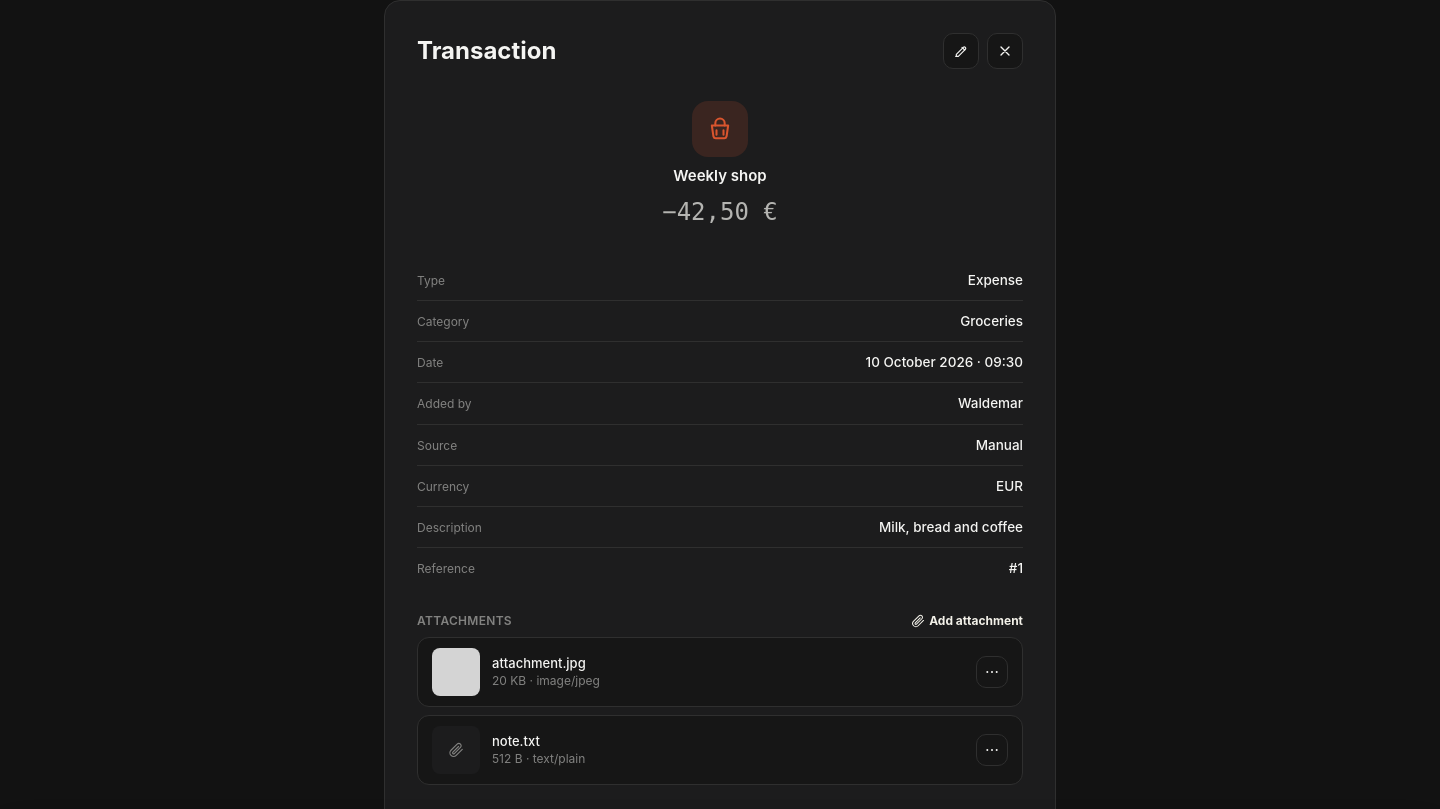
Test: TransactionDetailPage › opens the big-preview lightbox for a clicked attachment and closes it again
The image size is (1440, 809).
Expected: the text "Weekly shop" is shown, [673,165,767,188]
Click the button with aria-label "Preview attachment.jpg".
click(456, 672)  # box [432,648,964,696]
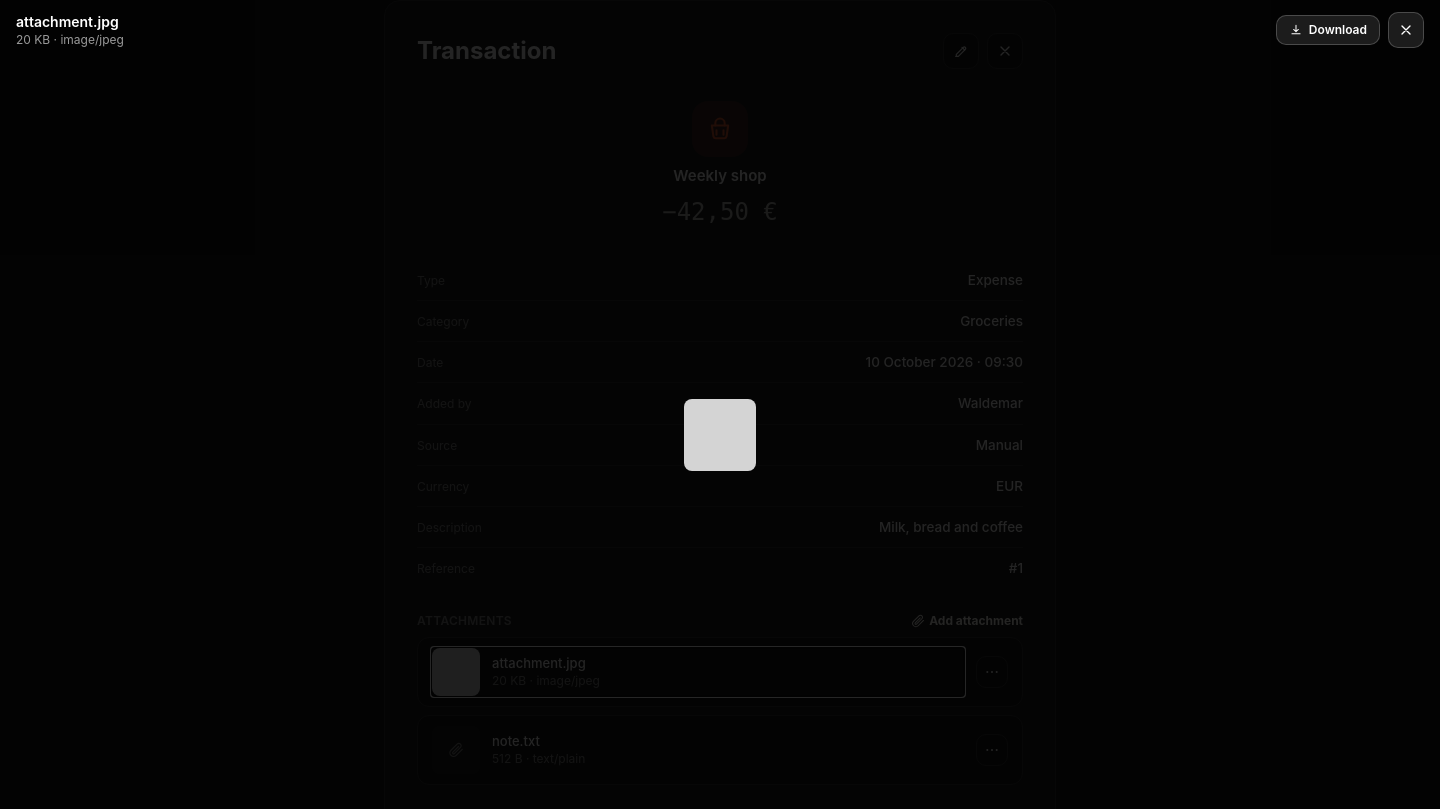
Click the button named "Close preview".
click(1406, 30)  # box [1388,12,1424,48]
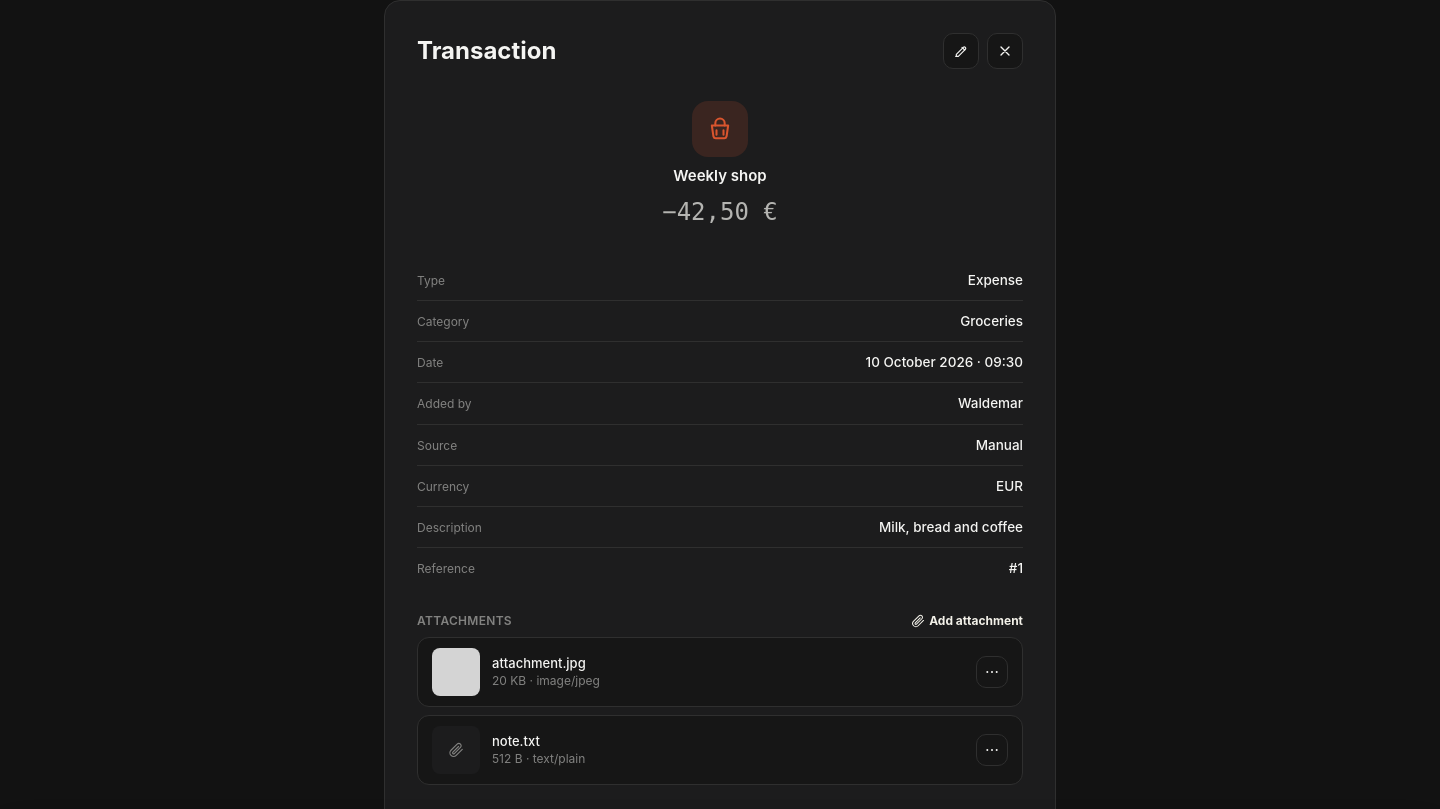
Expected: the dialog is gone
